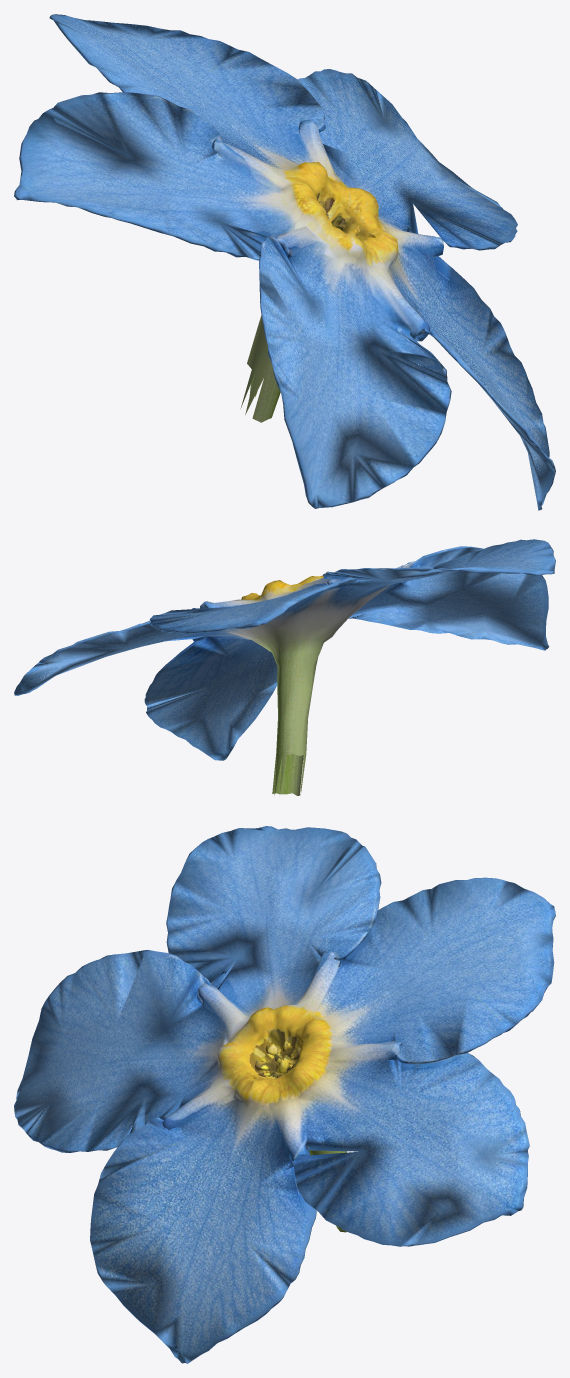
File: blue.glb
The picture shows the model from 3 angles, top to bottom: view 1: azimuth 30°, elevation 25°; view 2: azimuth 150°, elevation 25°; view 3: azimuth 270°, elevation 25°; orthographic projection. The views are drawn at different scales.
Parts seen in each view (by area): view 1: tripo_node_a5e0c19c-d28f-41ea-946e-cd13e73cd9e0; view 2: tripo_node_a5e0c19c-d28f-41ea-946e-cd13e73cd9e0; view 3: tripo_node_a5e0c19c-d28f-41ea-946e-cd13e73cd9e0.
Part boxes in pixels (left/top/right/bottom): tripo_node_a5e0c19c-d28f-41ea-946e-cd13e73cd9e0: left=14, top=14, right=555, bottom=510; tripo_node_a5e0c19c-d28f-41ea-946e-cd13e73cd9e0: left=14, top=539, right=555, bottom=795; tripo_node_a5e0c19c-d28f-41ea-946e-cd13e73cd9e0: left=14, top=826, right=555, bottom=1363.
Bounding box in the file's own units: 0.3884 × 0.274 × 0.3729.
Materials: 1 (1 with a texture image).
